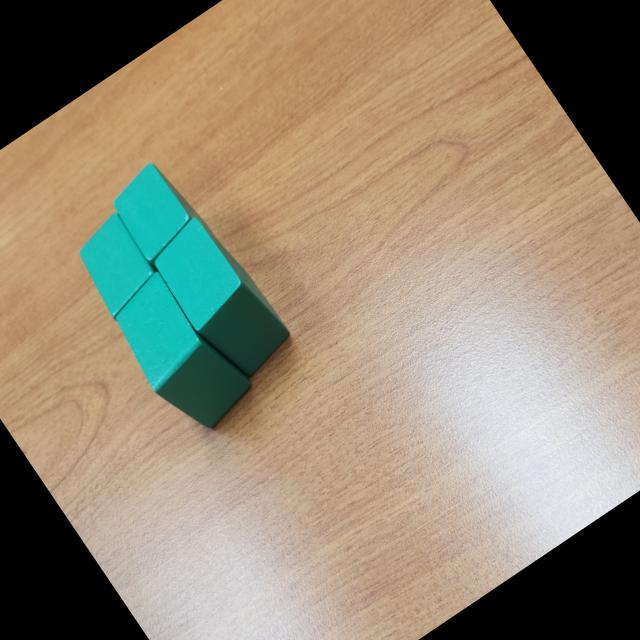green: (98, 261, 260, 444), (142, 206, 301, 390), (101, 155, 222, 285), (64, 210, 170, 324)
